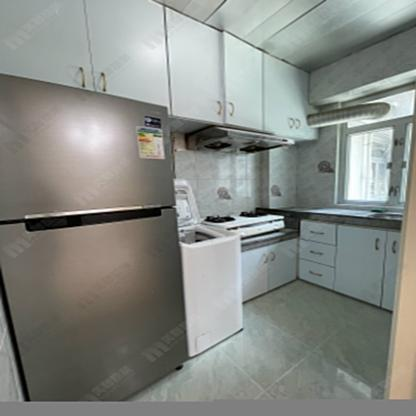Cupboard: (3, 1, 320, 137), (236, 222, 404, 311)
Exhaust Hood: (188, 125, 297, 154)
Fridge: (0, 75, 190, 406), (0, 72, 186, 401)
Sink: (367, 211, 404, 221)
Stove: (202, 210, 285, 236)
Washing Machine: (173, 178, 244, 360)
